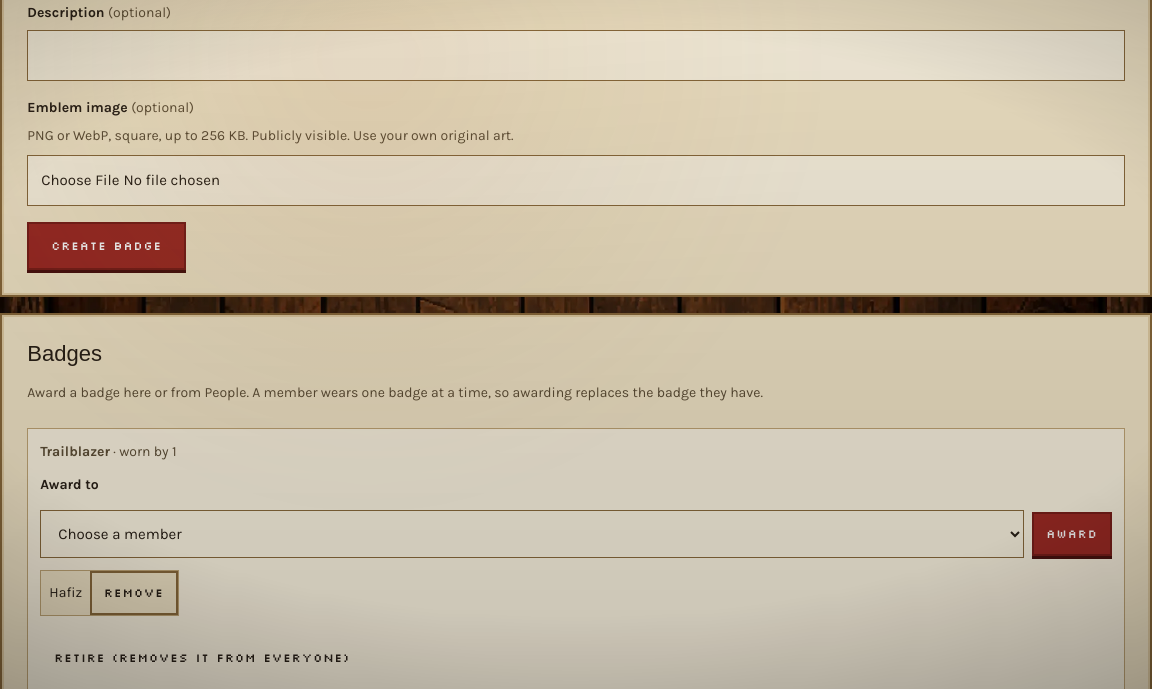
it: takes a badge off a wearer, after the password step-up
(page scrolled)
Click the button "Remove": (134, 593) [90,571,178,615]
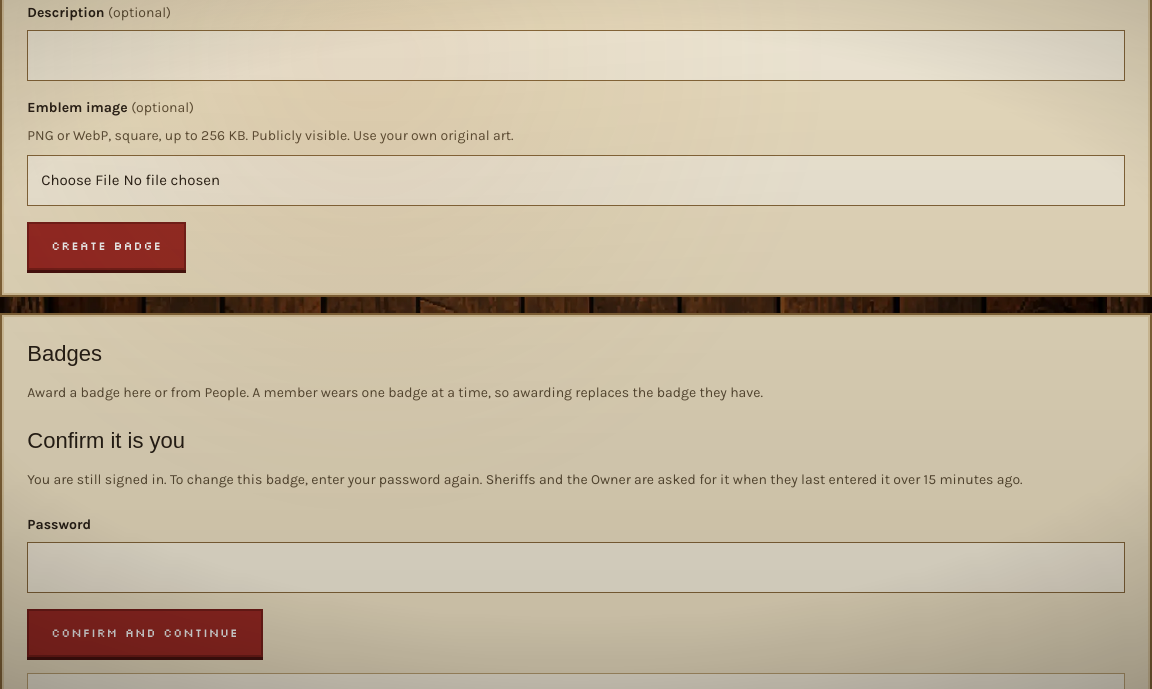
In the password field labelled "Password": (576, 568) [27,542,1125,594], type "pw"
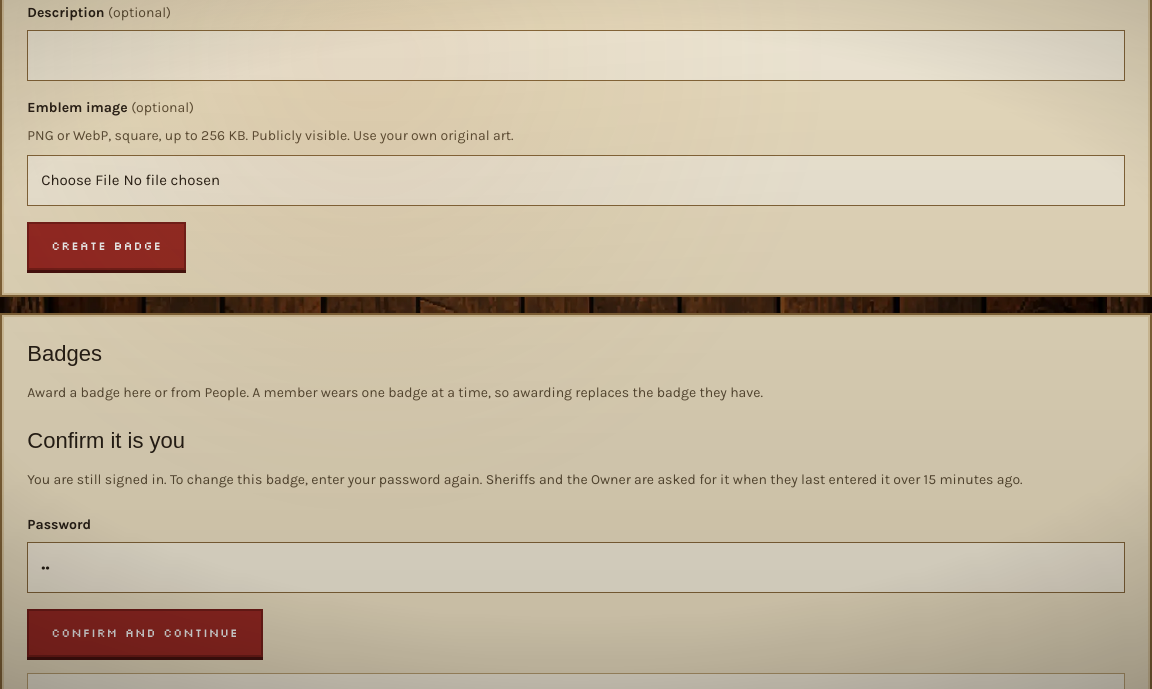
Click the button "Confirm and continue": (145, 633) [27,609,262,657]
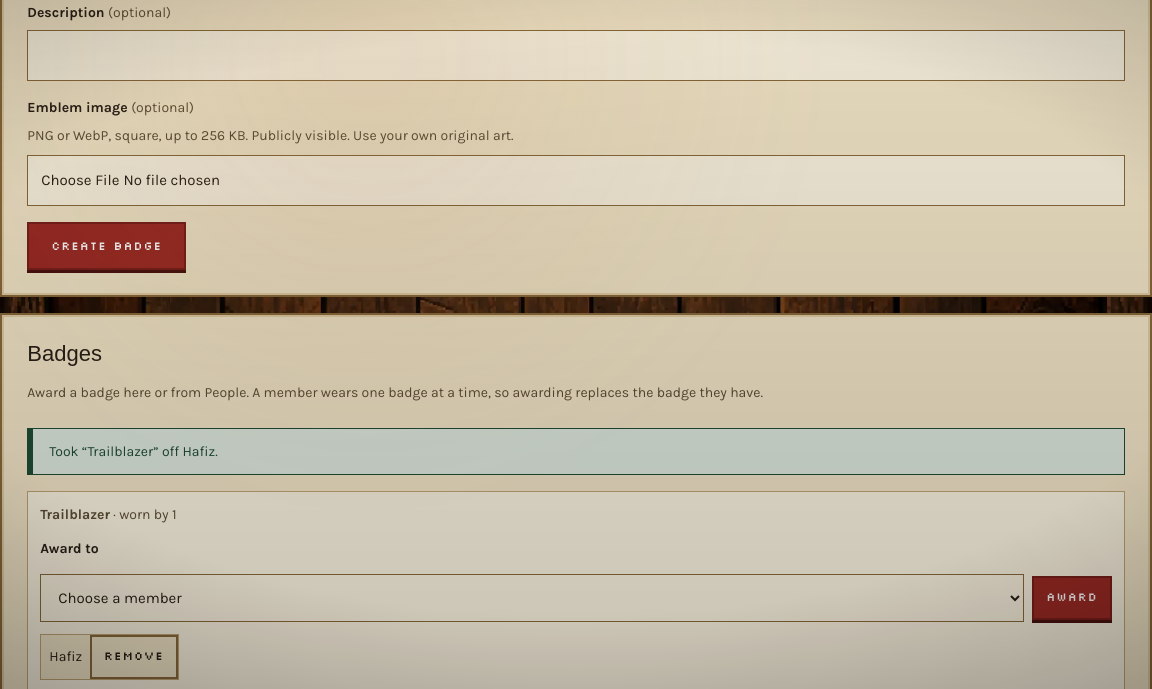
Result: the message reads "Took “Trailblazer” off Hafiz." at [49,442,218,460]
